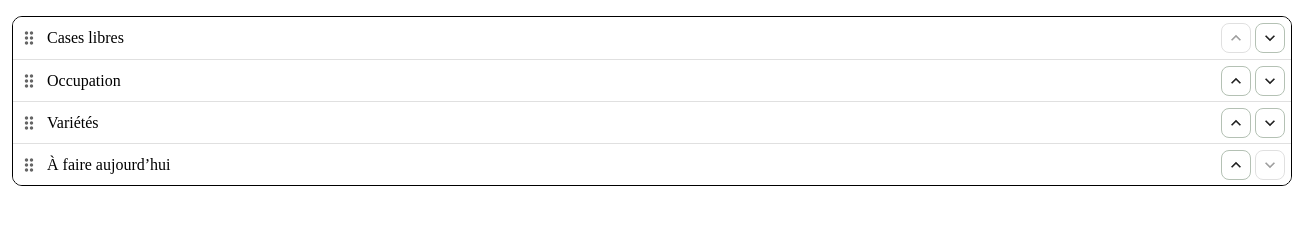
ReorderableList — ▲ ▼ at the keyboard › keeps the focus on ▲ when the row reaches the top — the button turns aria-disabled under it
Click the button named "Monter « Occupation »": (1236, 80) [1221, 66, 1251, 96]
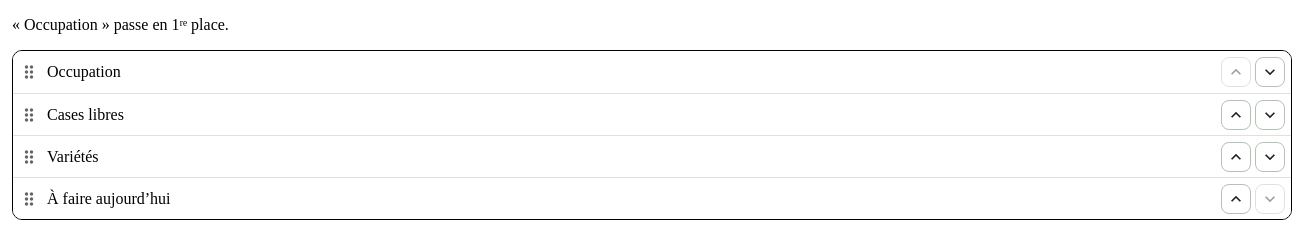
Result: the message "« Occupation » passe en 1ʳᵉ place." is shown at [12, 16, 229, 33]
